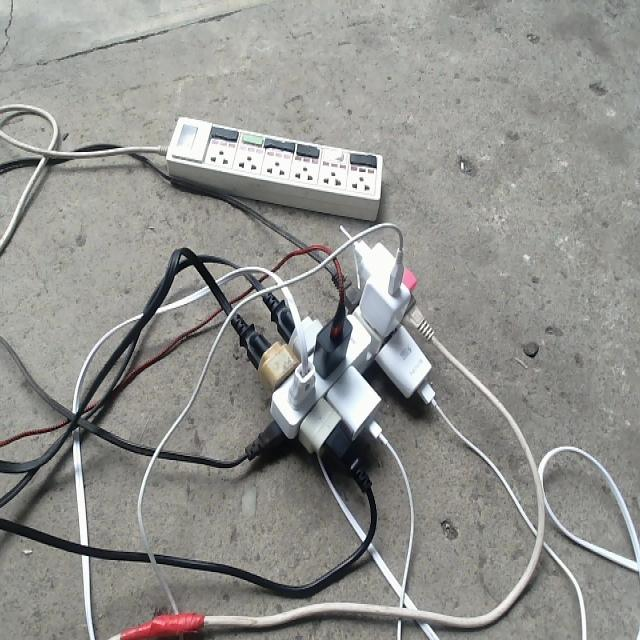-: (231, 236, 437, 496)
